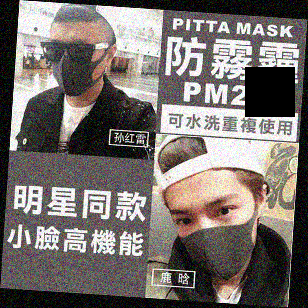with_mask: (165, 191, 257, 282), (47, 37, 98, 98)
